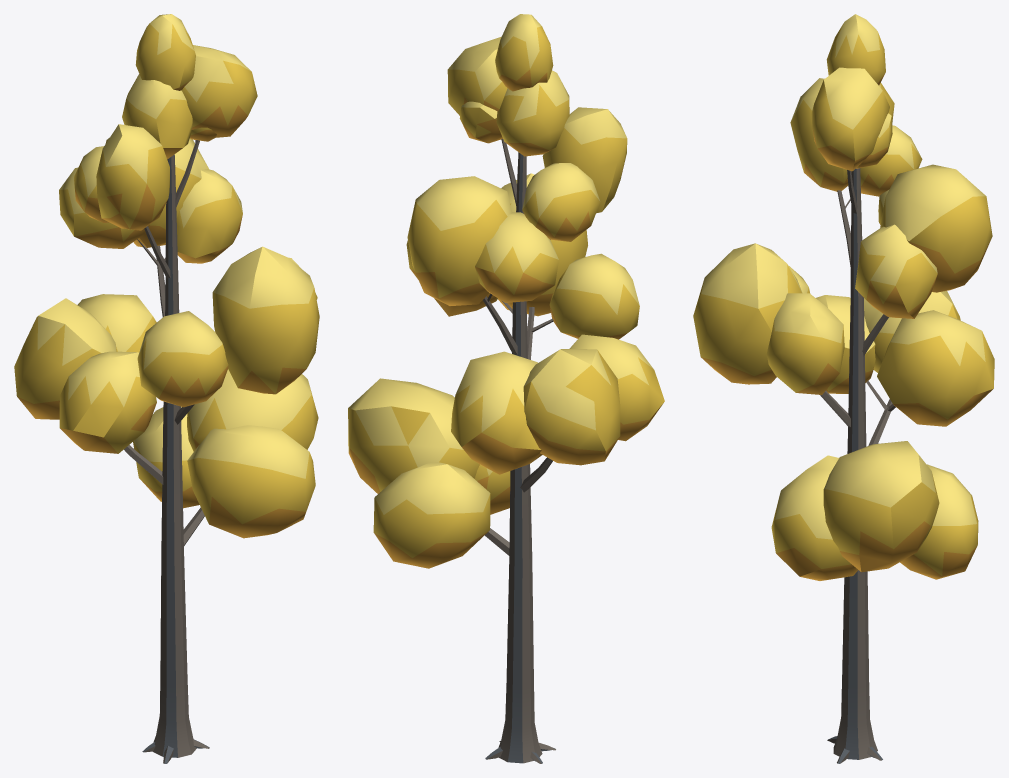
Rendered from SC_Nat_Ginkgo_Autumn.gltf.
3 views of the same model, side by side, from view 1: azimuth 30°, elevation 25°; view 2: azimuth 150°, elevation 25°; view 3: azimuth 270°, elevation 25° (orthographic).
Parts seen in each view (by area): view 1: SC_Nat_Ginkgo_Autumn; view 2: SC_Nat_Ginkgo_Autumn; view 3: SC_Nat_Ginkgo_Autumn.
Part boxes in pixels (x1=…): SC_Nat_Ginkgo_Autumn: x1=14, y1=14, x2=319, y2=763; SC_Nat_Ginkgo_Autumn: x1=348, y1=14, x2=664, y2=763; SC_Nat_Ginkgo_Autumn: x1=693, y1=14, x2=994, y2=763.
Bounding box in the file's own units: 4.13 × 10.58 × 3.96.
Materials: 1 (1 with a texture image).
